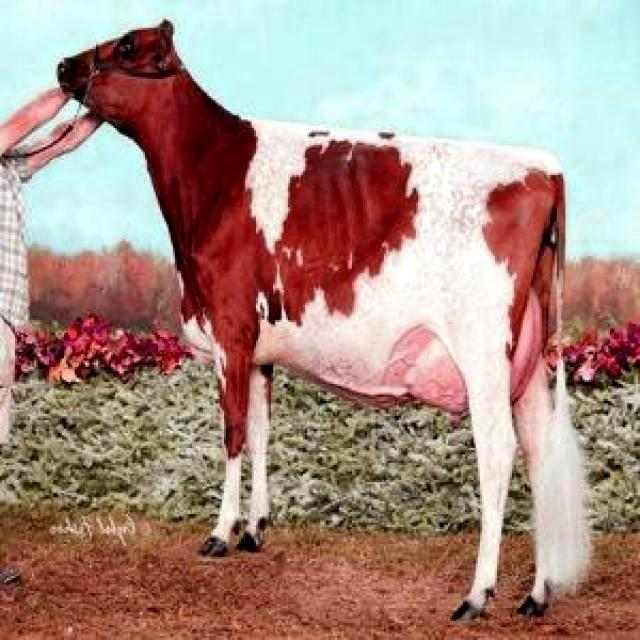COW: (59, 22, 588, 619)
